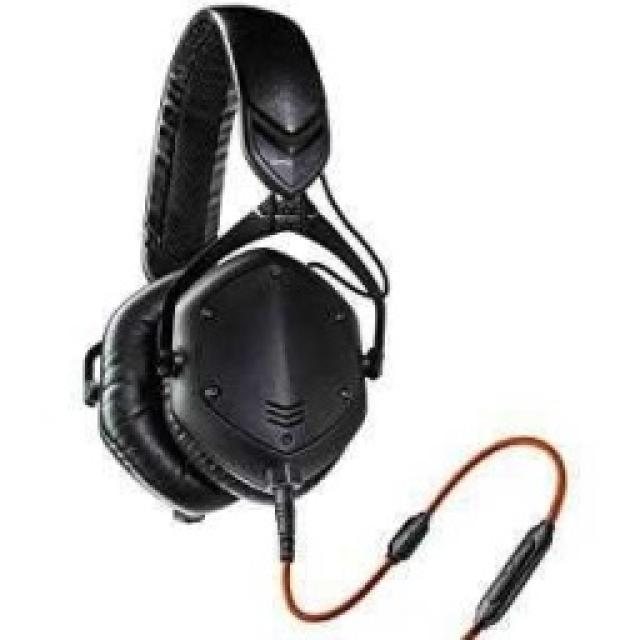headphones: (80, 0, 390, 522)
